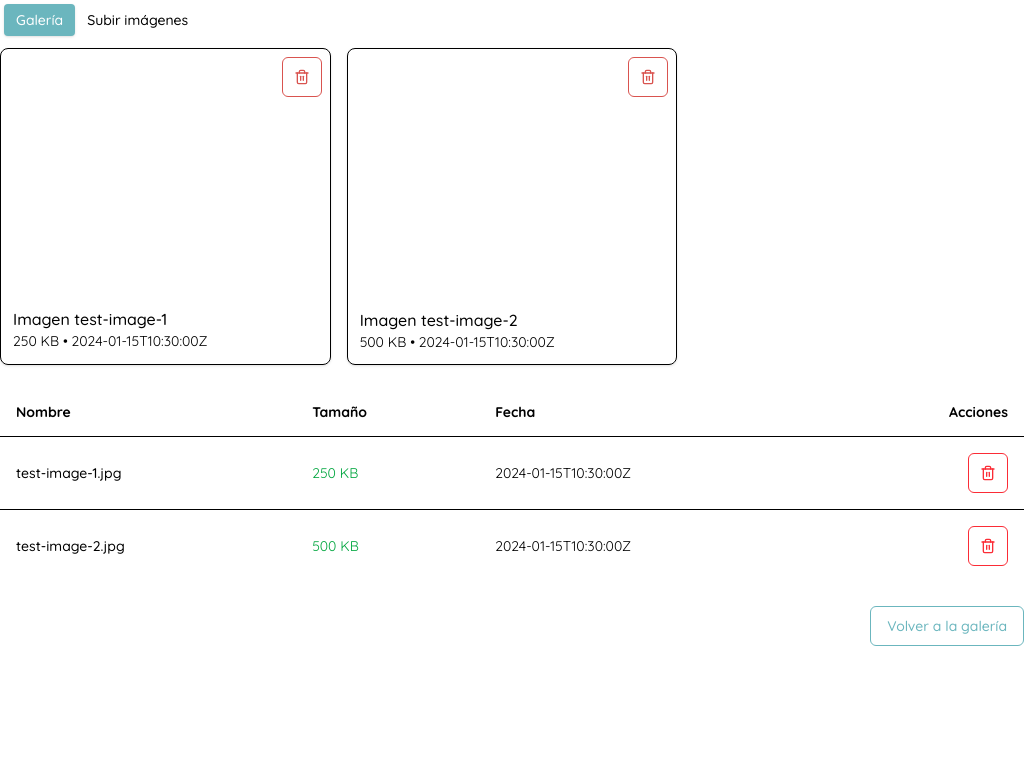
it: ImagenUpload › Eliminación de imágenes › debe cancelar eliminación al hacer clic en Cancelar
Click the 1st button named "eliminar imagen". click: (302, 77)
box: [282,57,322,97]
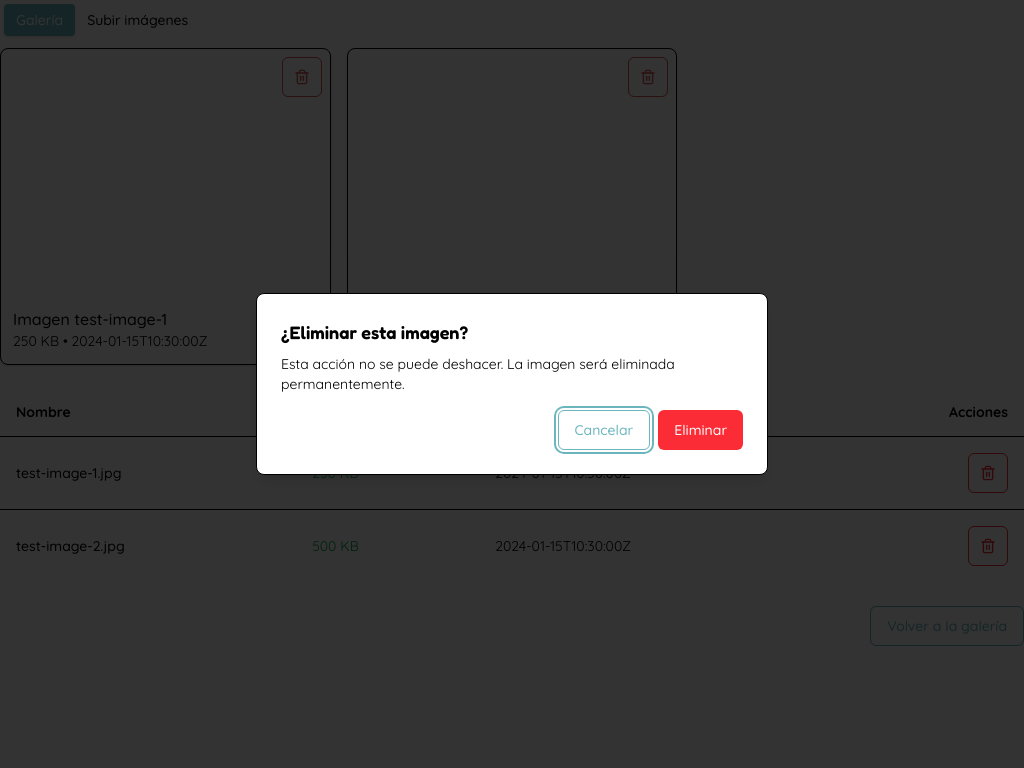
Click the button "Cancelar". click: (604, 430)
box: [558,410,650,450]
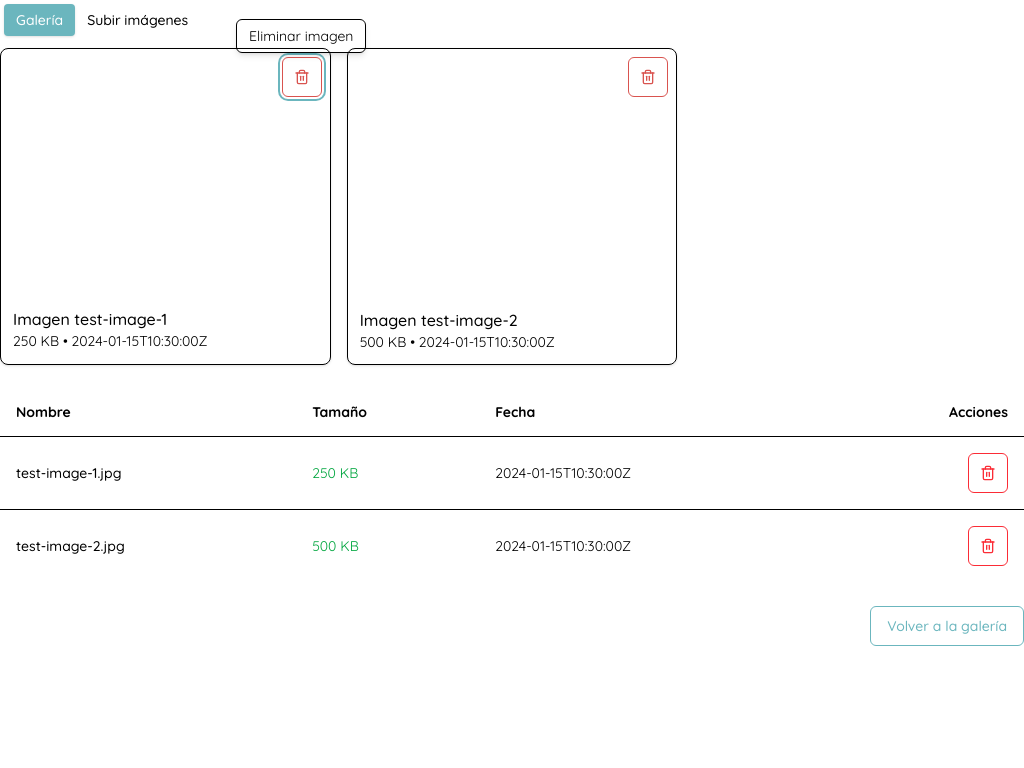
Expected: the heading "¿Eliminar esta imagen?" is gone
